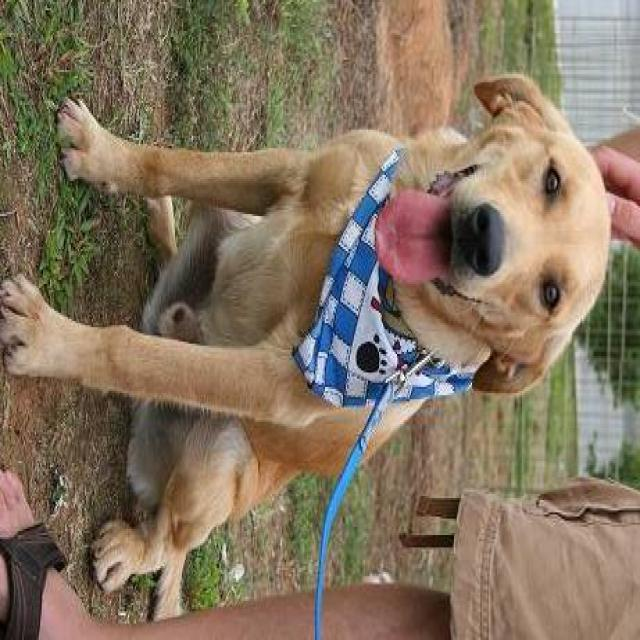dog: (0, 72, 611, 622)
